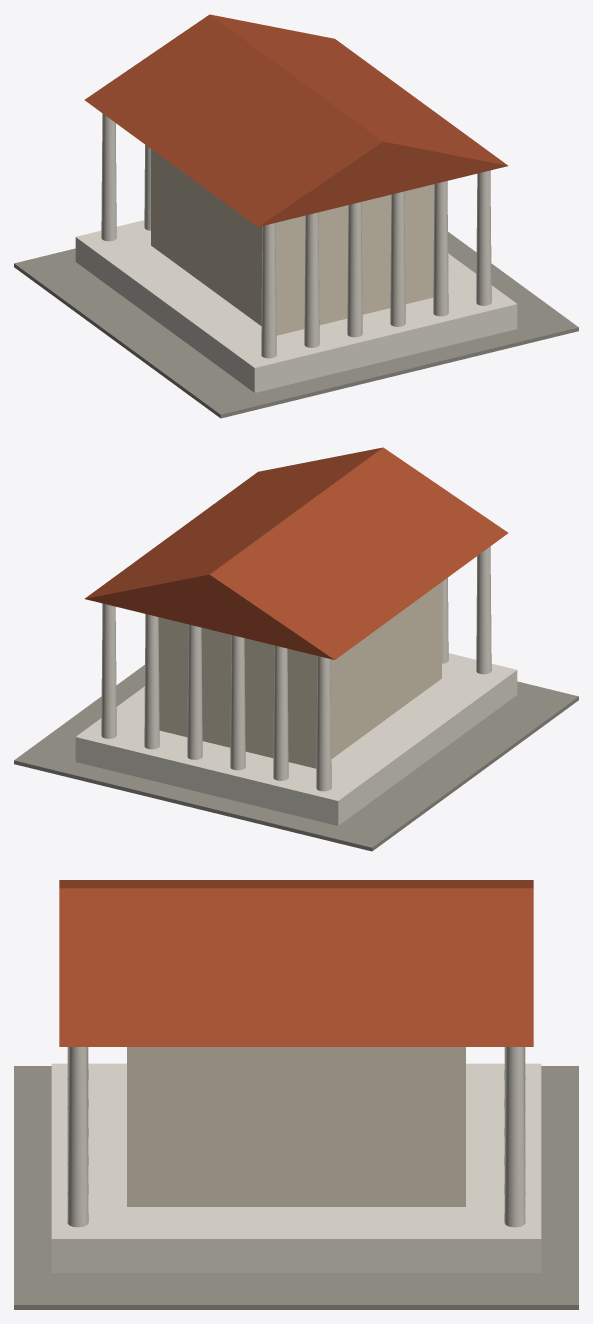
The model's file is bld_special_temple_a02.glb.
3 views of the same model, one above another, from view 1: azimuth 30°, elevation 25°; view 2: azimuth 150°, elevation 25°; view 3: azimuth 270°, elevation 25° (orthographic). The views are drawn at different scales.
Visible parts, largest first — view 1: body; view 2: body; view 3: body.
Boxes of the visible parts, x1,y1,x2,y2 form: body: [14, 14, 578, 418]; body: [14, 447, 578, 851]; body: [14, 880, 578, 1309].
Size of what is drawn, in the model's own units: 15 by 8.85 by 15.
